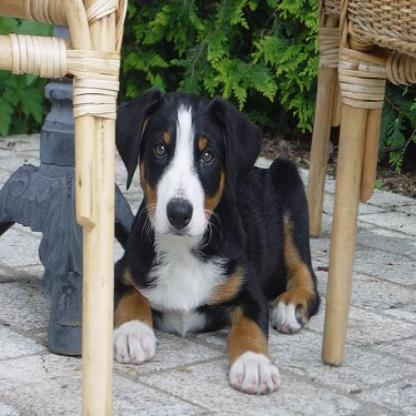Appenzeller: (113, 84, 322, 397)
